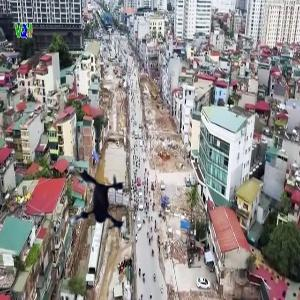drone: (42, 154, 146, 258)
